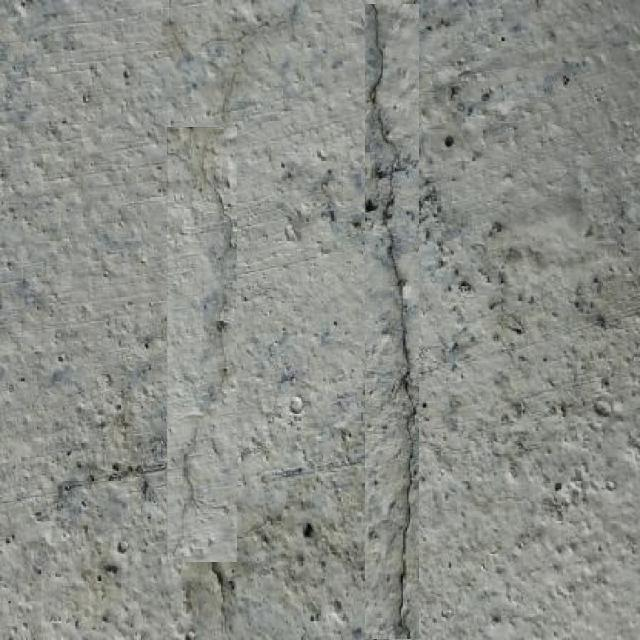crack: (360, 0, 422, 639)
